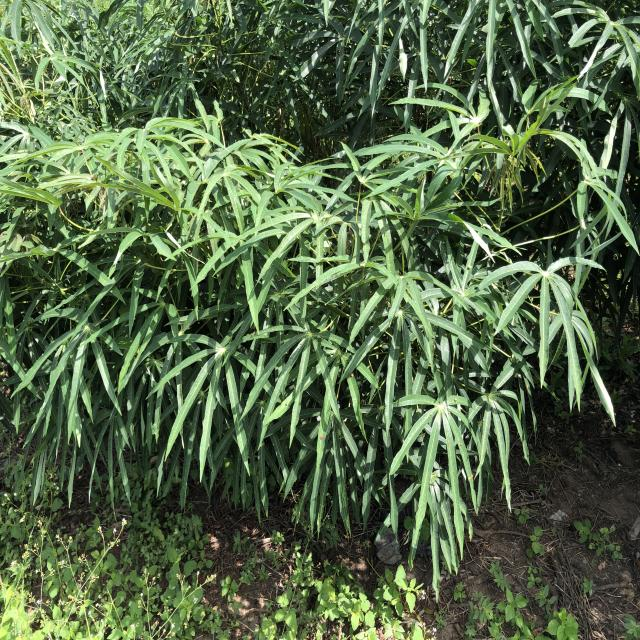Maleza: (1, 502, 417, 640)
Mosca: (448, 391, 461, 406), (135, 345, 142, 361), (150, 315, 162, 324), (222, 460, 232, 470), (197, 393, 204, 407), (318, 434, 324, 444)
